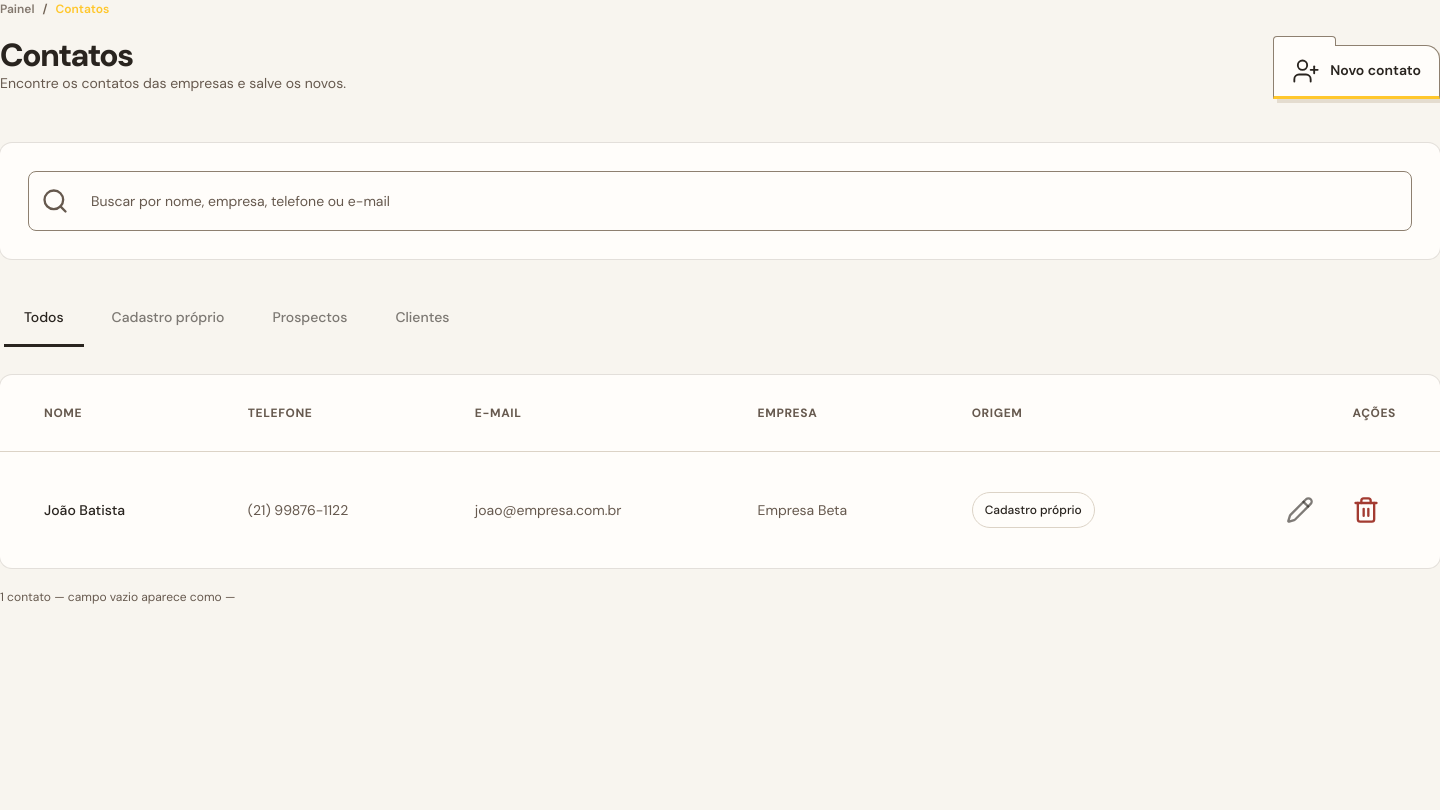
it: ContatosPage › exige o nome do contato no formulário
The width and height of the screenshot is (1440, 810).
Click the button "Novo contato" at (1357, 72), box [1273,45,1439,99]
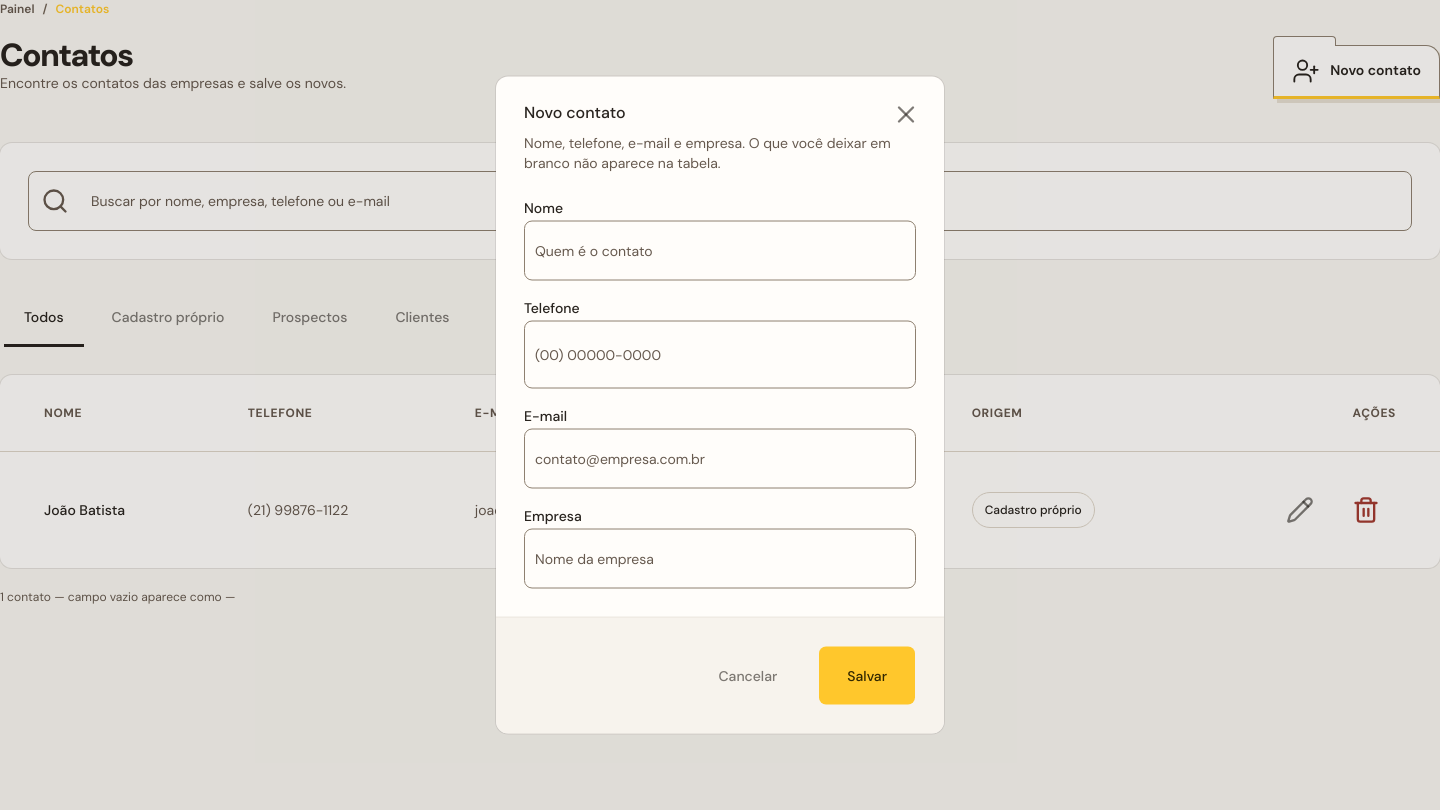
Click the button "Salvar" at (867, 676), box [818,646,916,706]
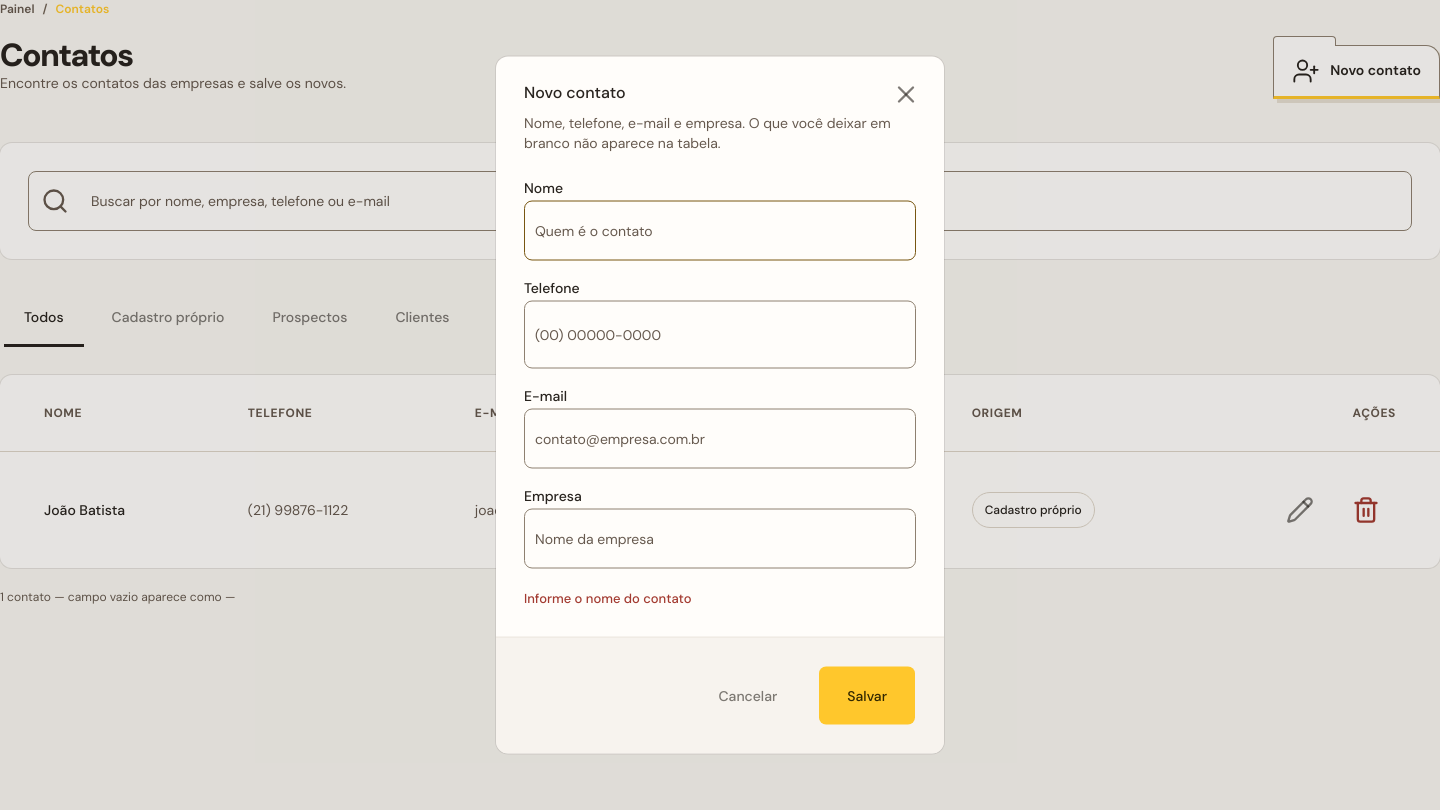
Expected: the text "Informe o nome do contato" is shown, [524,590,692,606]
